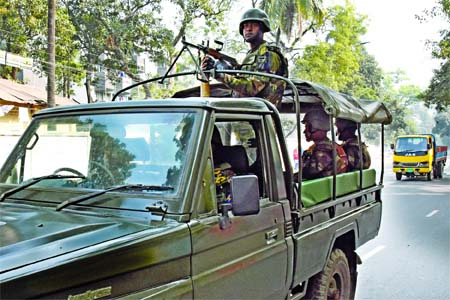army vehicle: (1, 71, 392, 300)
truck: (390, 134, 447, 181)
